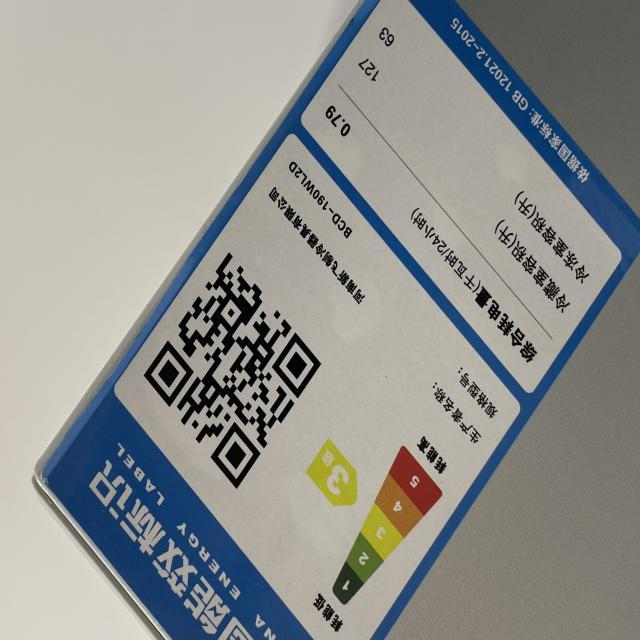qr_code: (143, 251, 323, 491)
